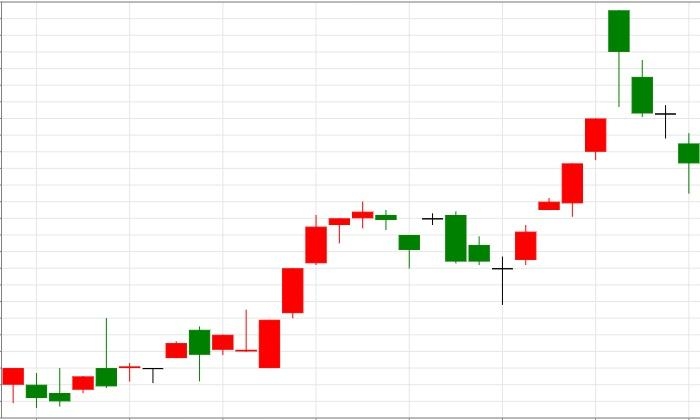hanging_man_fall: (492, 11, 629, 305)
morning_star_rise: (422, 209, 536, 305)
